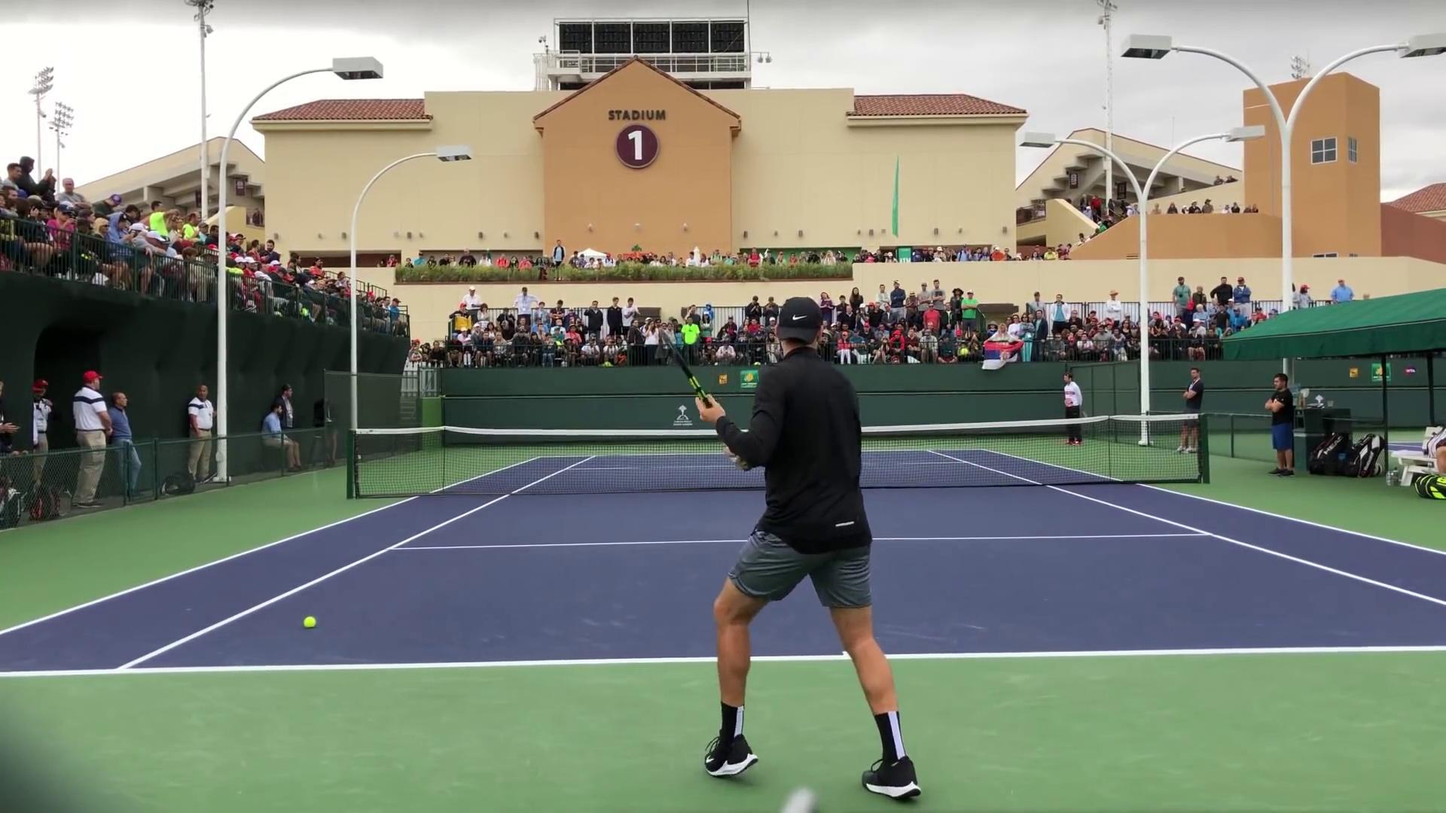ball: (304, 613, 316, 629), (729, 454, 743, 466)
